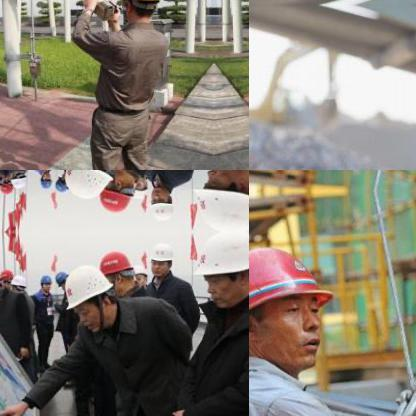Helmet: (249, 230, 344, 378), (194, 231, 248, 307), (194, 170, 248, 230), (62, 266, 114, 328), (98, 170, 137, 215), (98, 246, 136, 290), (61, 170, 116, 196), (113, 0, 165, 25), (146, 182, 174, 223), (146, 238, 174, 278), (132, 258, 150, 286), (132, 174, 150, 202), (10, 271, 26, 294), (53, 268, 69, 290), (53, 170, 69, 192), (0, 263, 15, 285), (0, 175, 15, 197), (10, 170, 26, 190), (38, 170, 53, 189), (38, 272, 52, 292)
